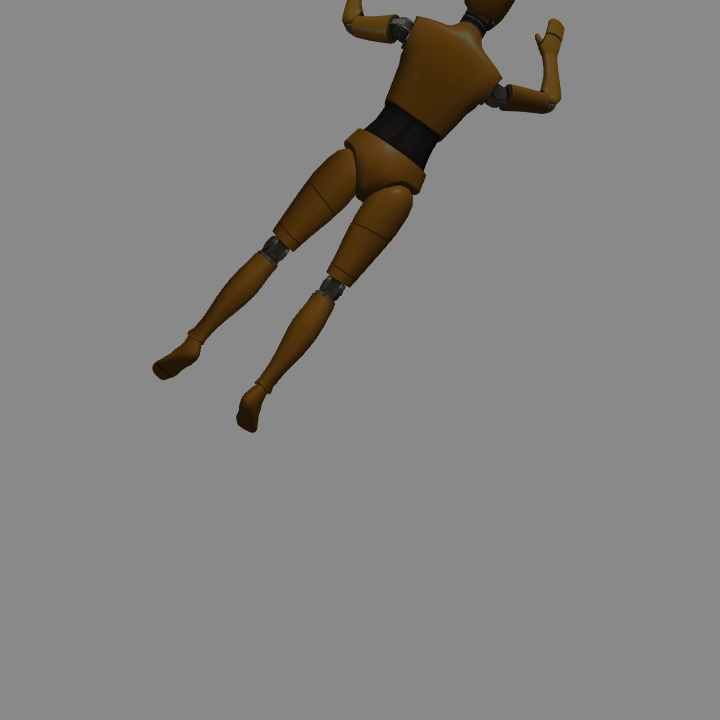victim: (156, 1, 559, 431)
